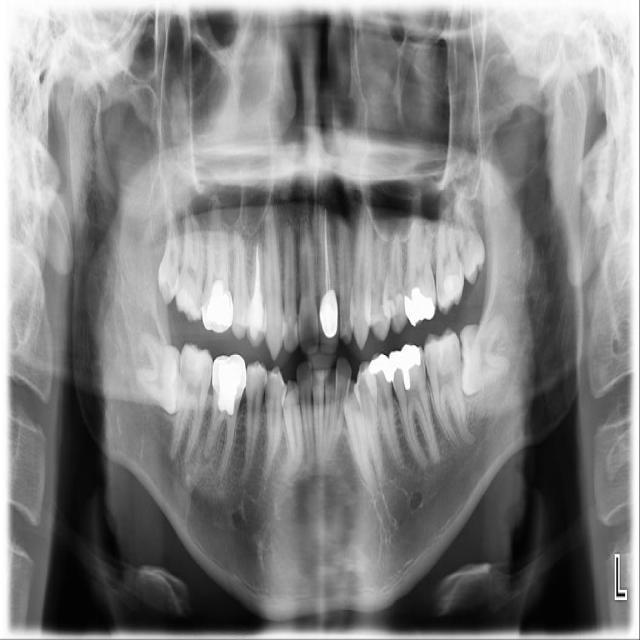Filling: (388, 343, 427, 397), (405, 280, 436, 327), (365, 353, 392, 383), (173, 291, 202, 317), (441, 270, 463, 302), (281, 319, 298, 341)
Root Canal Treatment: (323, 212, 332, 294), (253, 247, 260, 301)
impacted tooth: (461, 312, 515, 395), (133, 331, 179, 416)
